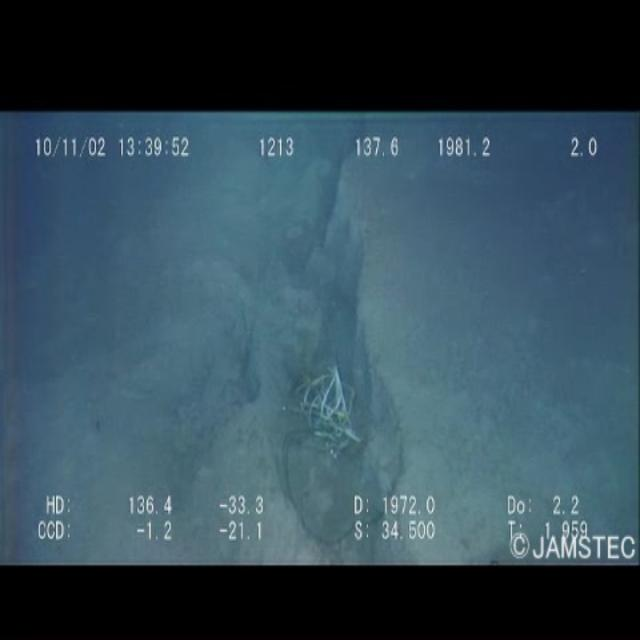Rope: (281, 332, 372, 464)
